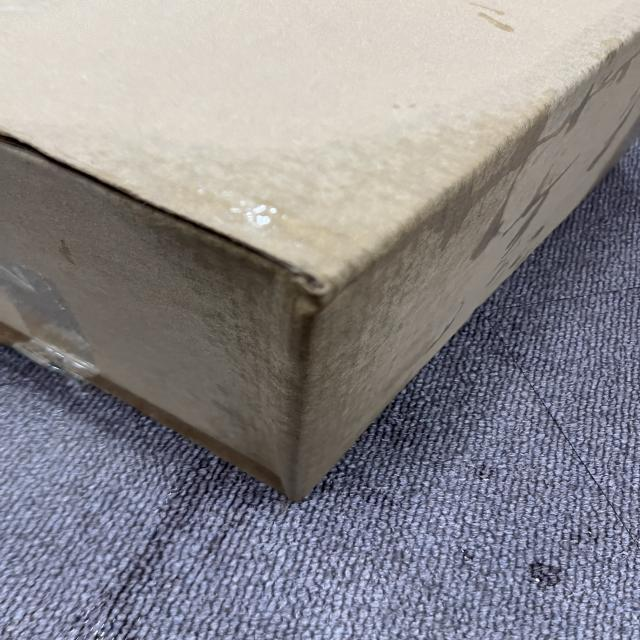wet: (153, 113, 526, 501)
